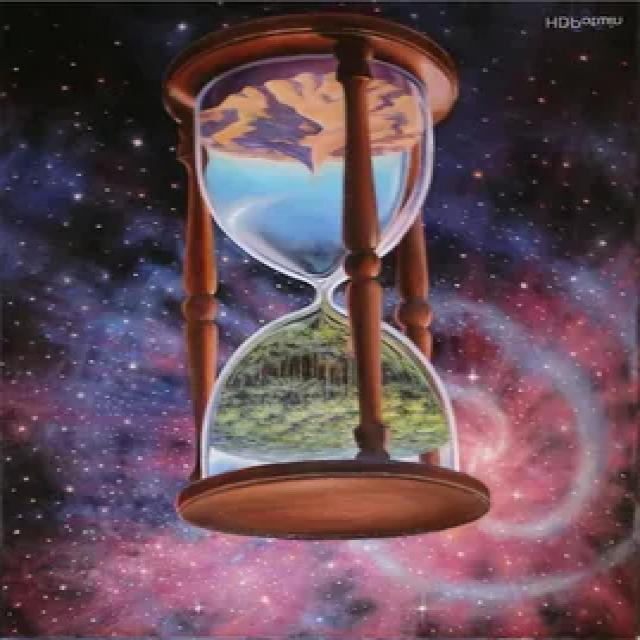clock: (156, 10, 470, 547)
